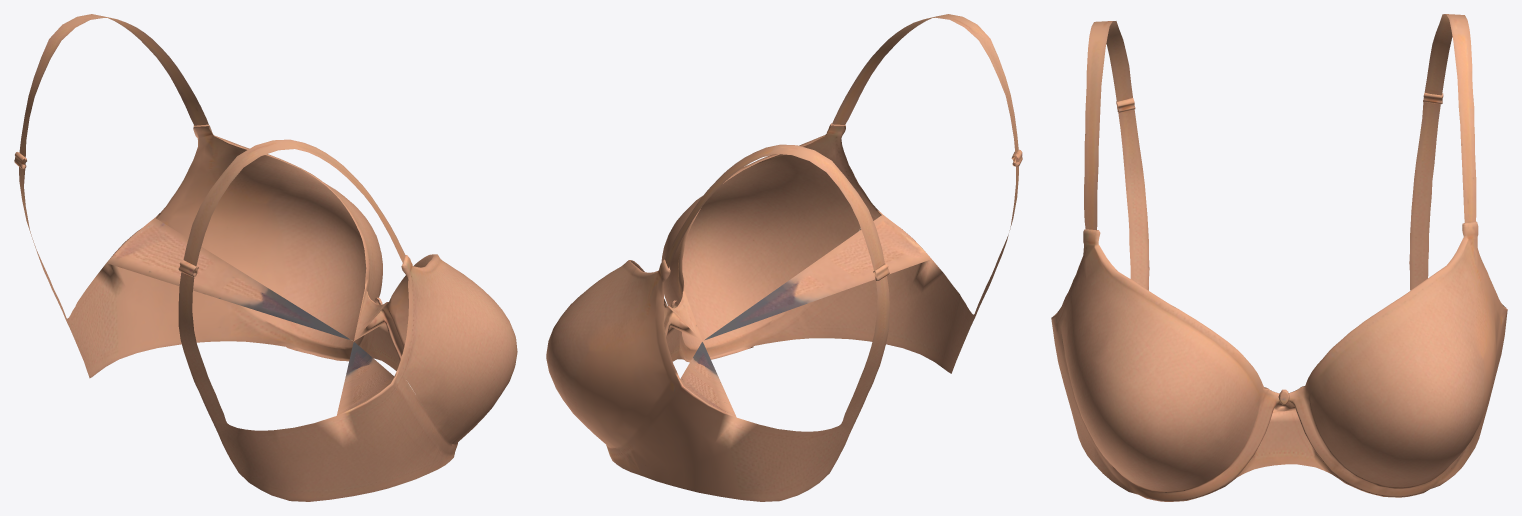
Rendered from sutia_bege.glb.
3 renders of one model, left to right at view 1: azimuth 30°, elevation 25°; view 2: azimuth 150°, elevation 25°; view 3: azimuth 270°, elevation 25°, orthographic.
Parts seen in each view (by area): view 1: sutia_bege; view 2: sutia_bege; view 3: sutia_bege.
Boxes of the visible parts, box(x1,y1,x2,y2) form: sutia_bege: box(14, 14, 517, 501); sutia_bege: box(546, 14, 1022, 501); sutia_bege: box(1051, 14, 1507, 501).
Bounding box in the file's own units: 0.2969 × 0.2979 × 0.3291.
1 material, 1 textured.
